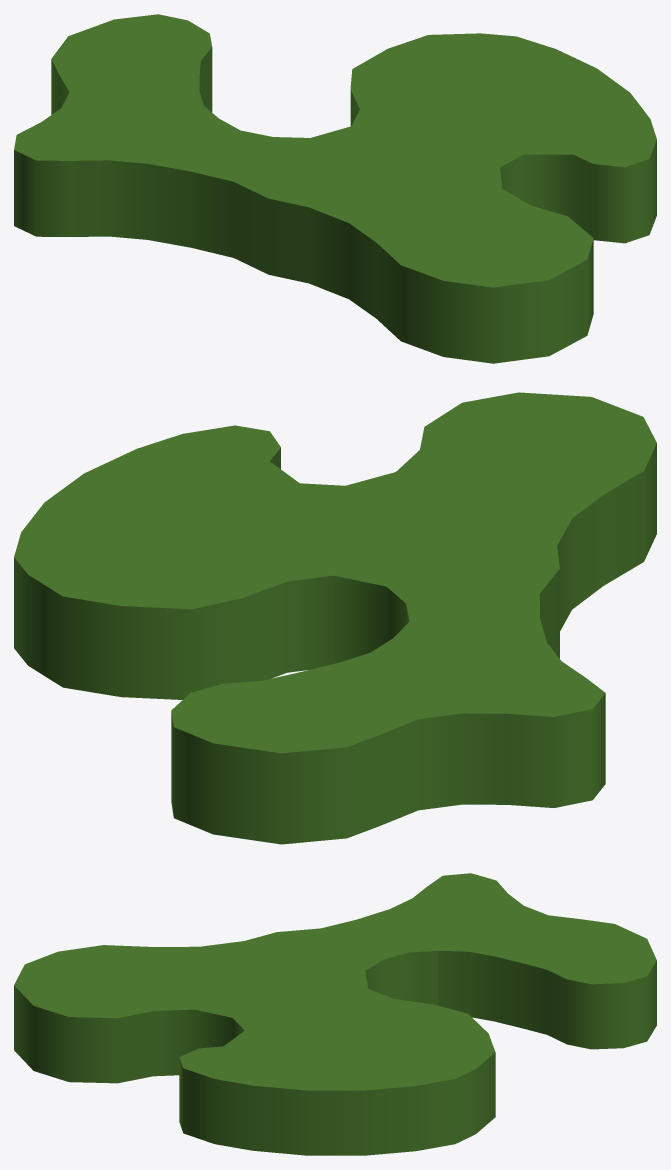
The model's file is Islands_02.fbx.
The picture shows the model from 3 angles, top to bottom: view 1: azimuth 30°, elevation 25°; view 2: azimuth 150°, elevation 25°; view 3: azimuth 270°, elevation 25°; orthographic projection. The views are drawn at different scales.
Visible parts, largest first — view 1: Island_02; view 2: Island_02; view 3: Island_02.
Part boxes in pixels (x1,y1,x2,y2): Island_02: [14, 14, 656, 363]; Island_02: [14, 392, 656, 844]; Island_02: [14, 873, 656, 1155].
Size of the model in its own units: 1095 by 153 by 1369.
